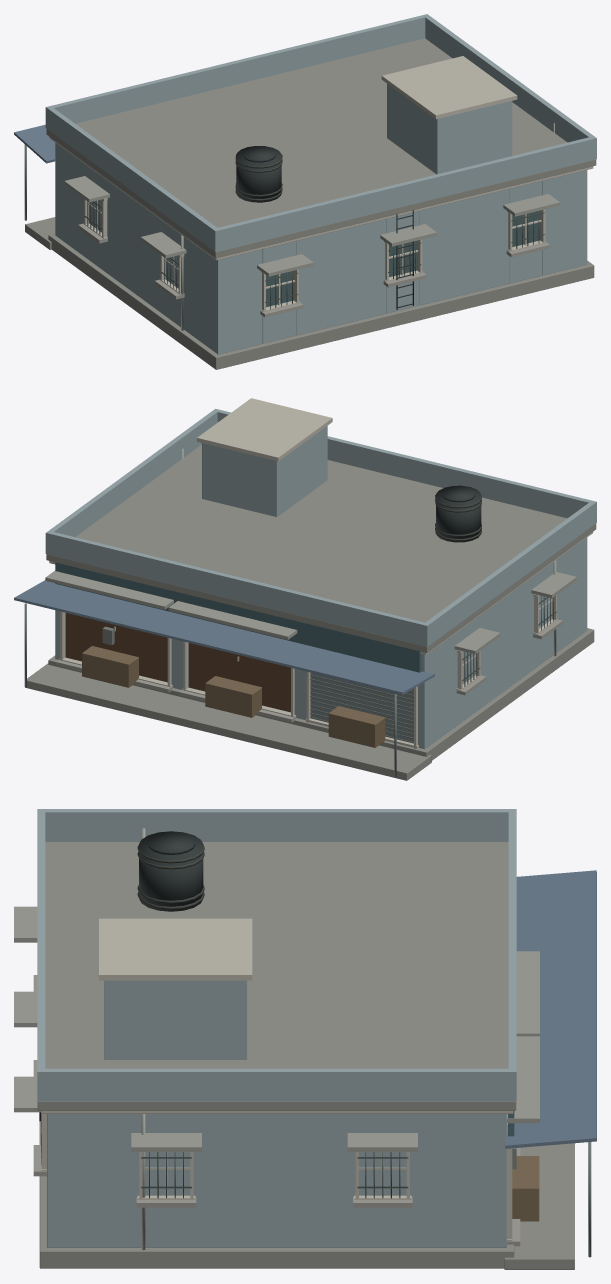
The model's file is shop_row.glb.
3 renders of one model, top to bottom at view 1: azimuth 30°, elevation 25°; view 2: azimuth 150°, elevation 25°; view 3: azimuth 270°, elevation 25°, orthographic. The views are drawn at different scales.
Parts seen in each view (by area): view 1: shop_row; view 2: shop_row; view 3: shop_row.
Boxes of the visible parts, <box> form: shop_row: <box>14,14,596,369</box>; shop_row: <box>14,398,596,780</box>; shop_row: <box>14,809,596,1269</box>.
Size of the model in its own units: 13.13 by 5.51 by 11.4.
